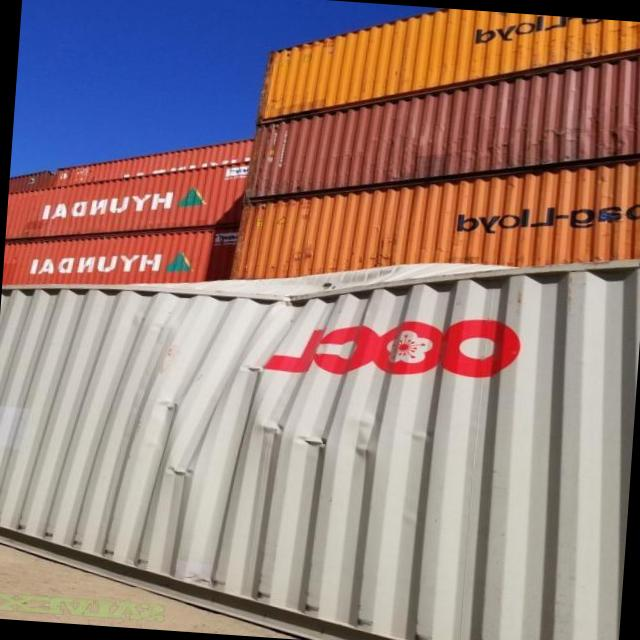Deframe_or_Dent: (86, 379, 463, 497), (168, 239, 550, 338)
